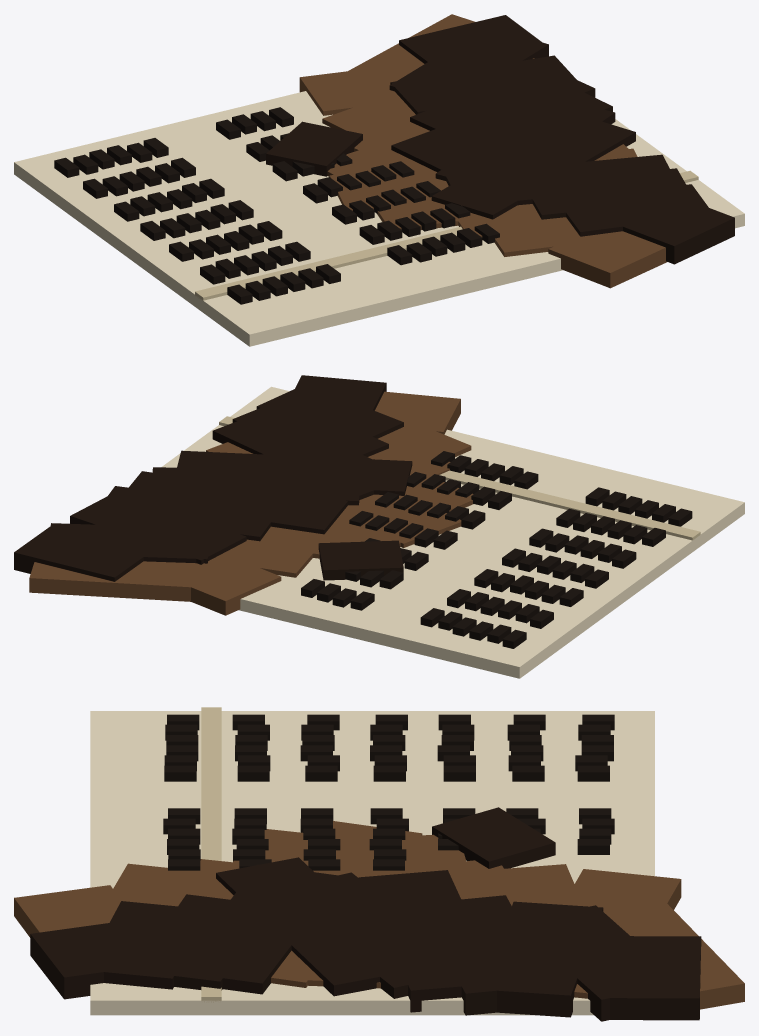
Rendered from prop_closeup_ledger_back.glb.
3 views of the same model, one above another, from view 1: azimuth 30°, elevation 25°; view 2: azimuth 150°, elevation 25°; view 3: azimuth 270°, elevation 25° (orthographic). The views are drawn at different scales.
Visible parts, largest first — view 1: prop_closeup_ledger_back; view 2: prop_closeup_ledger_back; view 3: prop_closeup_ledger_back.
Part boxes in pixels (x1,y1,x2,y2): prop_closeup_ledger_back: [14, 14, 744, 346]; prop_closeup_ledger_back: [14, 375, 744, 678]; prop_closeup_ledger_back: [14, 707, 744, 1021].
Bounding box in the file's own units: 0.3518 × 0.015 × 0.3625.
